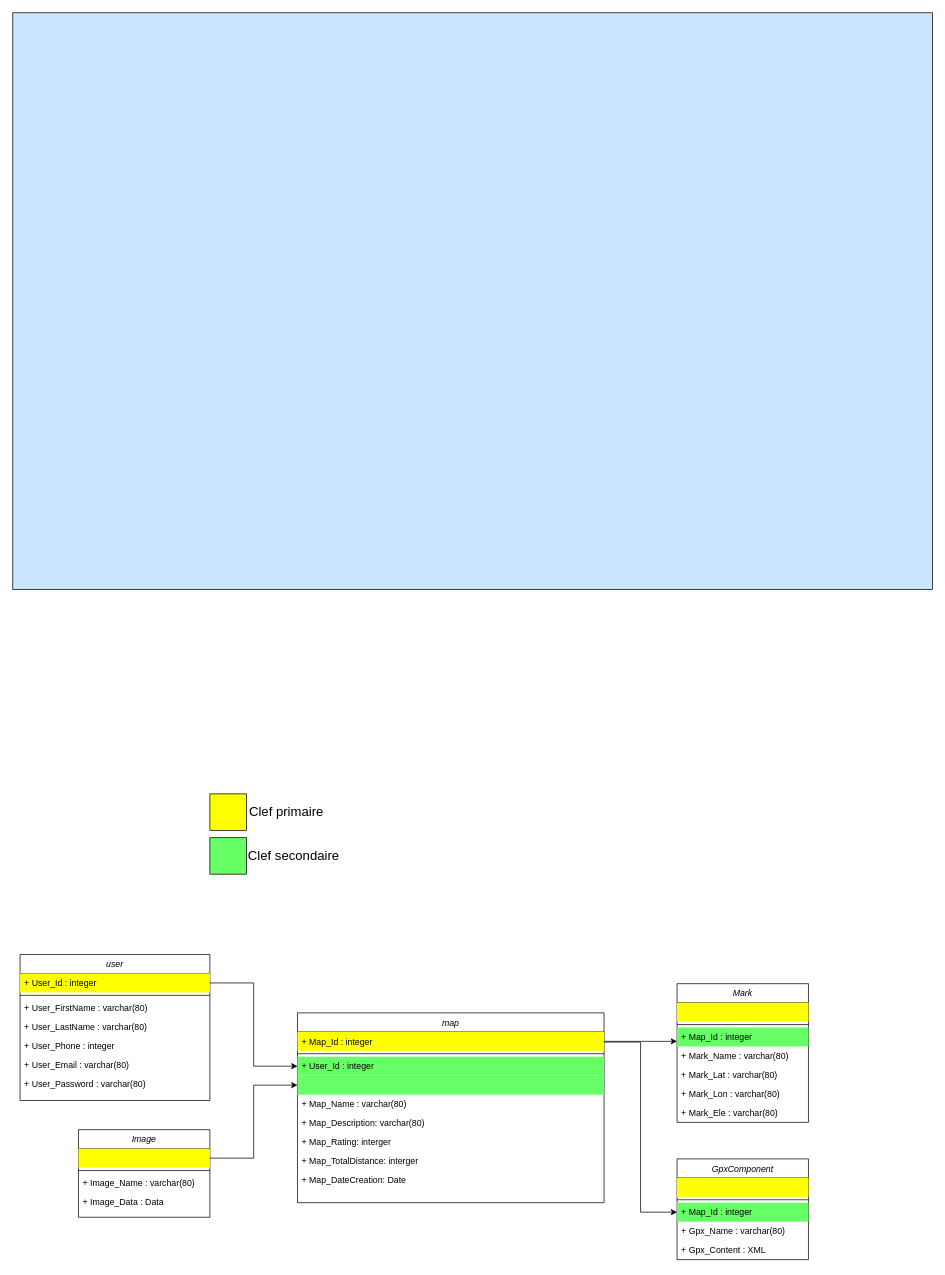
Some shapes in this 945 by 1275 pixel diagram are drawn without their labels. Each missing label, with the centre of its shape:
+ Gpx_Id: integer: the point at 742,1186
+ Image_Id : integer: the point at 144,1157
+ Image_Id: integer: the point at 450,1084
+ Mark_Id: integer: the point at 742,1011
